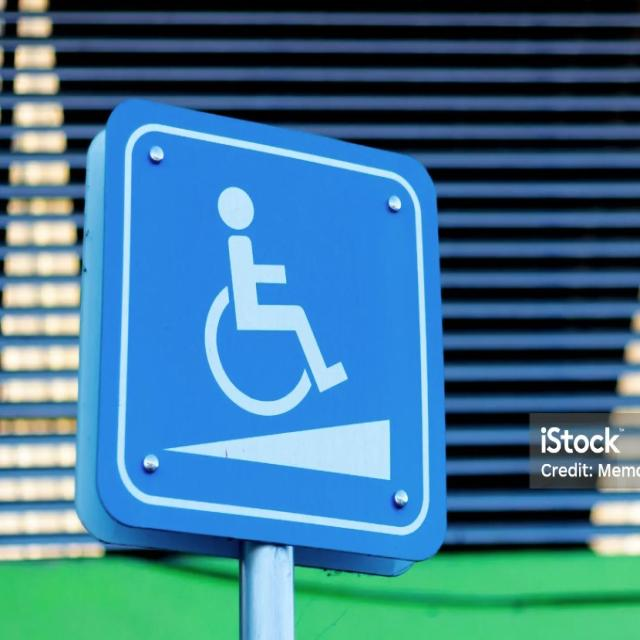symbol_of_access: (83, 97, 447, 570)
